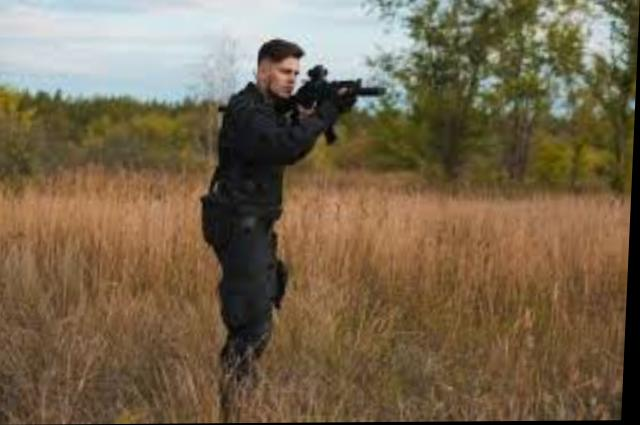other: (192, 31, 361, 385)
